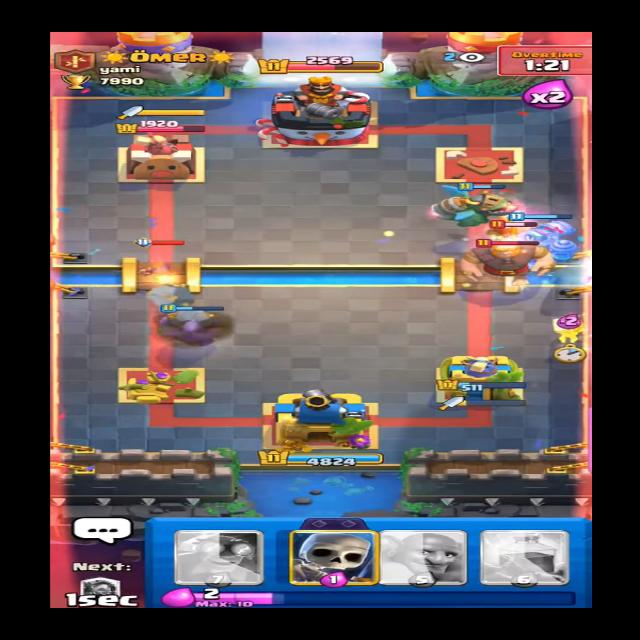evo-wizard: (124, 236, 203, 292)
giant: (452, 234, 566, 284)
